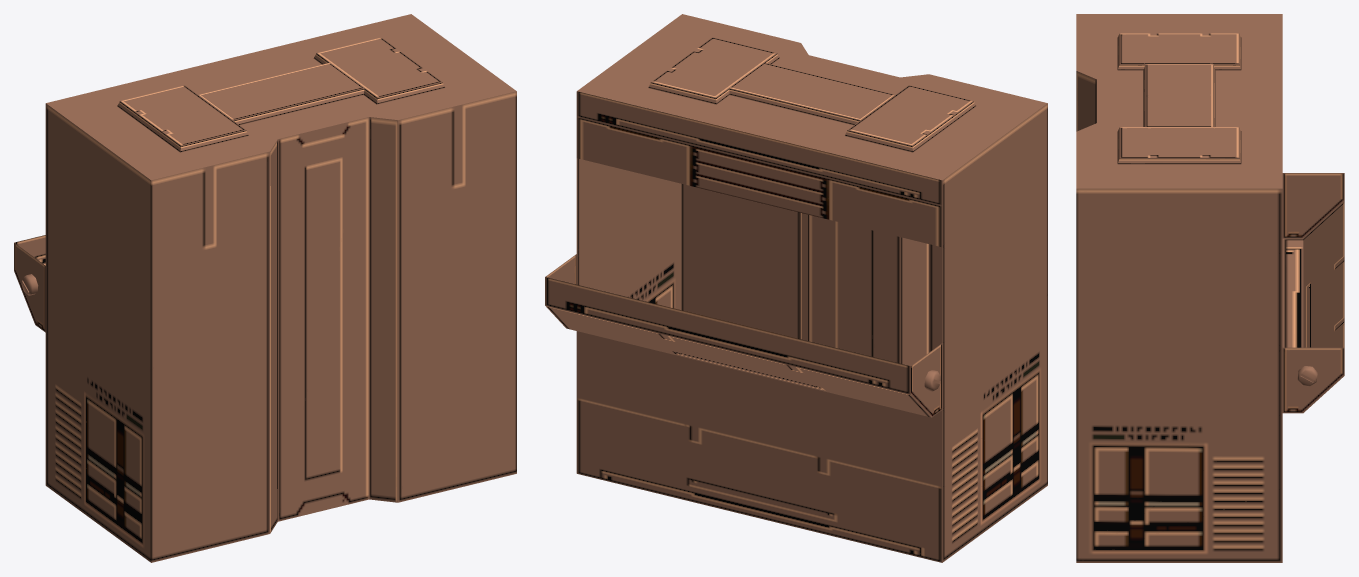
3 renders of one model, left to right at view 1: azimuth 30°, elevation 25°; view 2: azimuth 150°, elevation 25°; view 3: azimuth 270°, elevation 25°, orthographic. The views are drawn at different scales.
Visible parts, largest first — view 1: Joint_0_Object_0; view 2: Joint_0_Object_0; view 3: Joint_0_Object_0, Joint_0_Object_1.
Part boxes in pixels (x1,y1,x2,y2): Joint_0_Object_0: (14,14,516,562); Joint_0_Object_0: (545,14,1047,562); Joint_0_Object_0: (1076,14,1344,562); Joint_0_Object_1: (1297,366,1317,386).
Size of the model in its own units: 1040 by 1015 by 650.
2 materials, 2 textured.
